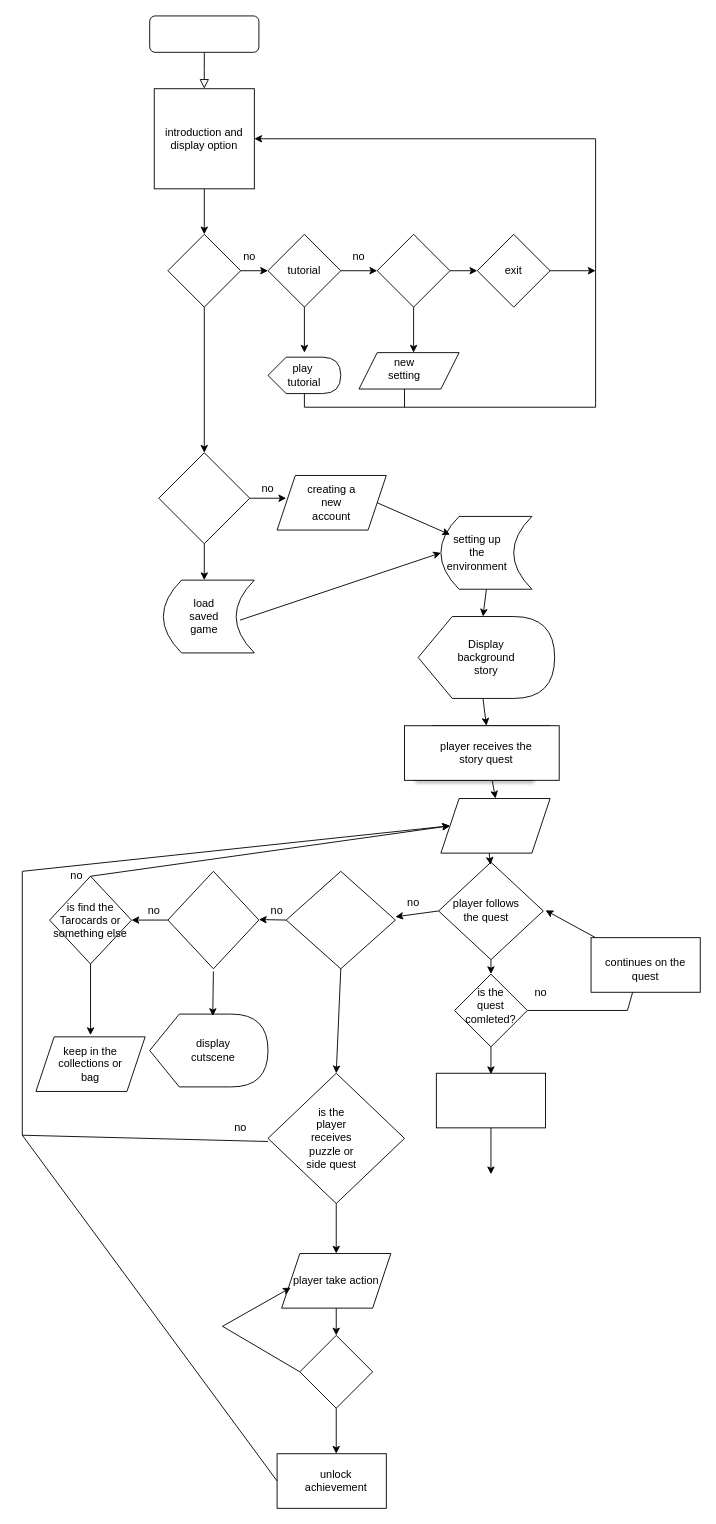
Image size: 716x1524. Some labels were removed from this diagram. Each missing label, with the centre of its shape:
have the user been saved game: the point at 204,498
input the player move: the point at 495,825
is interacts with cutscene?: the point at 213,919
is interacts with puzzle or side quest?: the point at 340,919
is successful?: the point at 336,1371
receives rewards and next the story: the point at 490,1100
settings: the point at 413,270
start: the point at 204,33
start game: the point at 204,270
